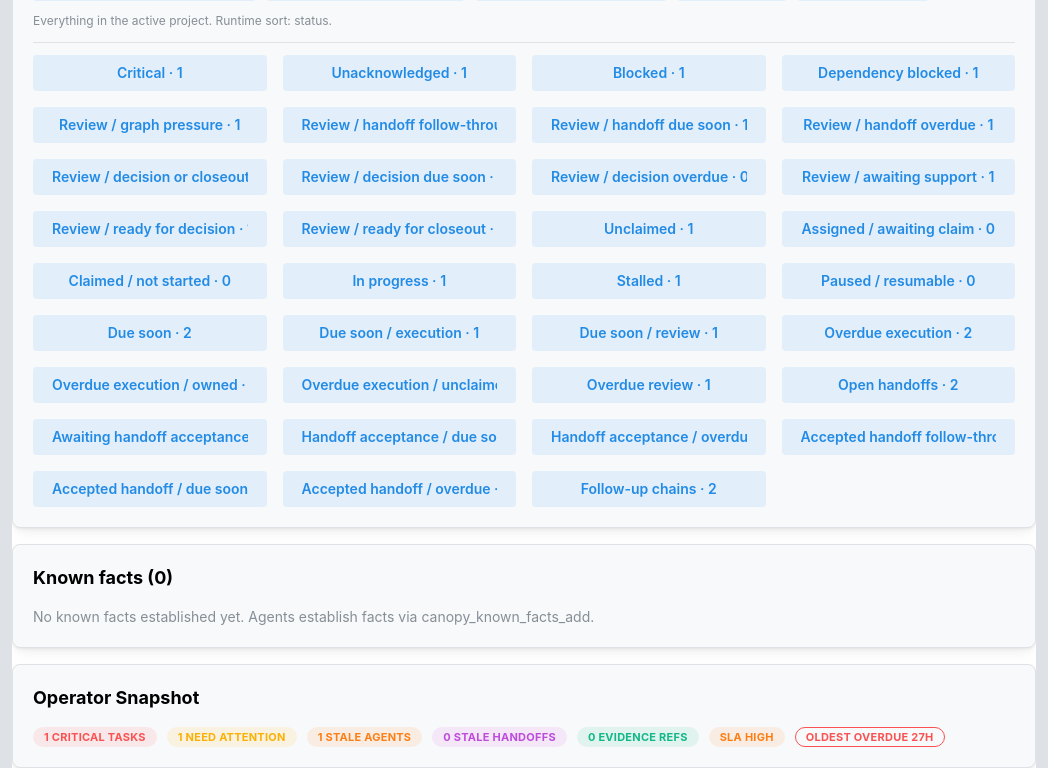
Test: Canopy page › opens the runtime handoff queue from the operator shortcut
(page scrolled)
Click the button "Open handoffs · 2".
click(898, 385)  # box [782, 367, 1015, 403]
(page scrolled)
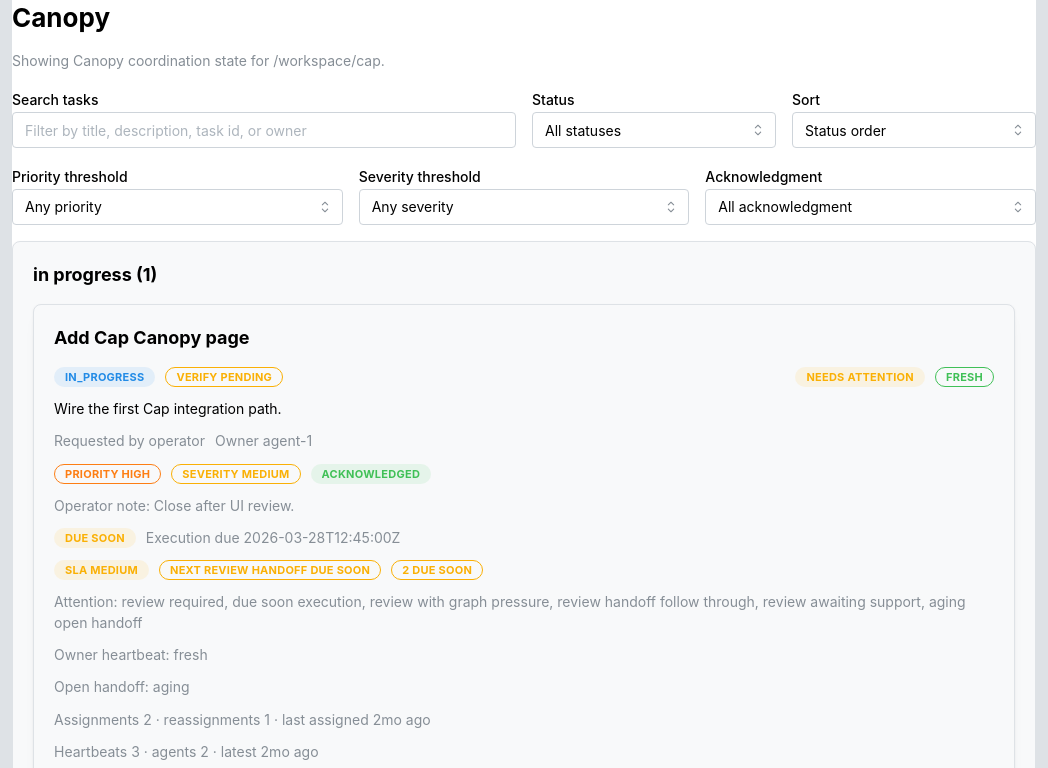
Check: the heading "Add Cap Canopy page" is shown, box [54, 327, 250, 348]
